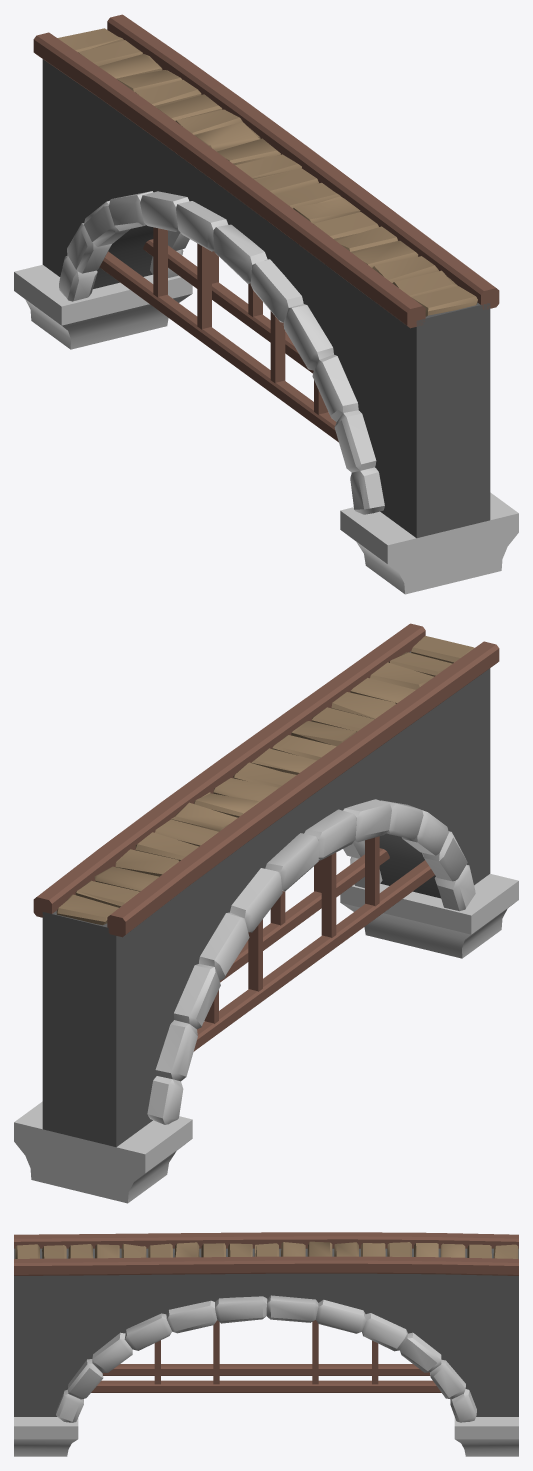
The model's file is civilian_bridge_1_b.FBX.
3 views of the same model, one above another, from view 1: azimuth 30°, elevation 25°; view 2: azimuth 150°, elevation 25°; view 3: azimuth 270°, elevation 25° (orthographic). The views are drawn at different scales.
Parts seen in each view (by area): view 1: civilian_bridge_1_b_LOD0; view 2: civilian_bridge_1_b_LOD0; view 3: civilian_bridge_1_b_LOD0.
Part boxes in pixels (x1,y1,x2,y2): civilian_bridge_1_b_LOD0: (14, 14, 518, 594); civilian_bridge_1_b_LOD0: (14, 623, 518, 1203); civilian_bridge_1_b_LOD0: (14, 1232, 518, 1456).
Size of what is drawn, in the model's own units: 214 by 448 by 1056.
